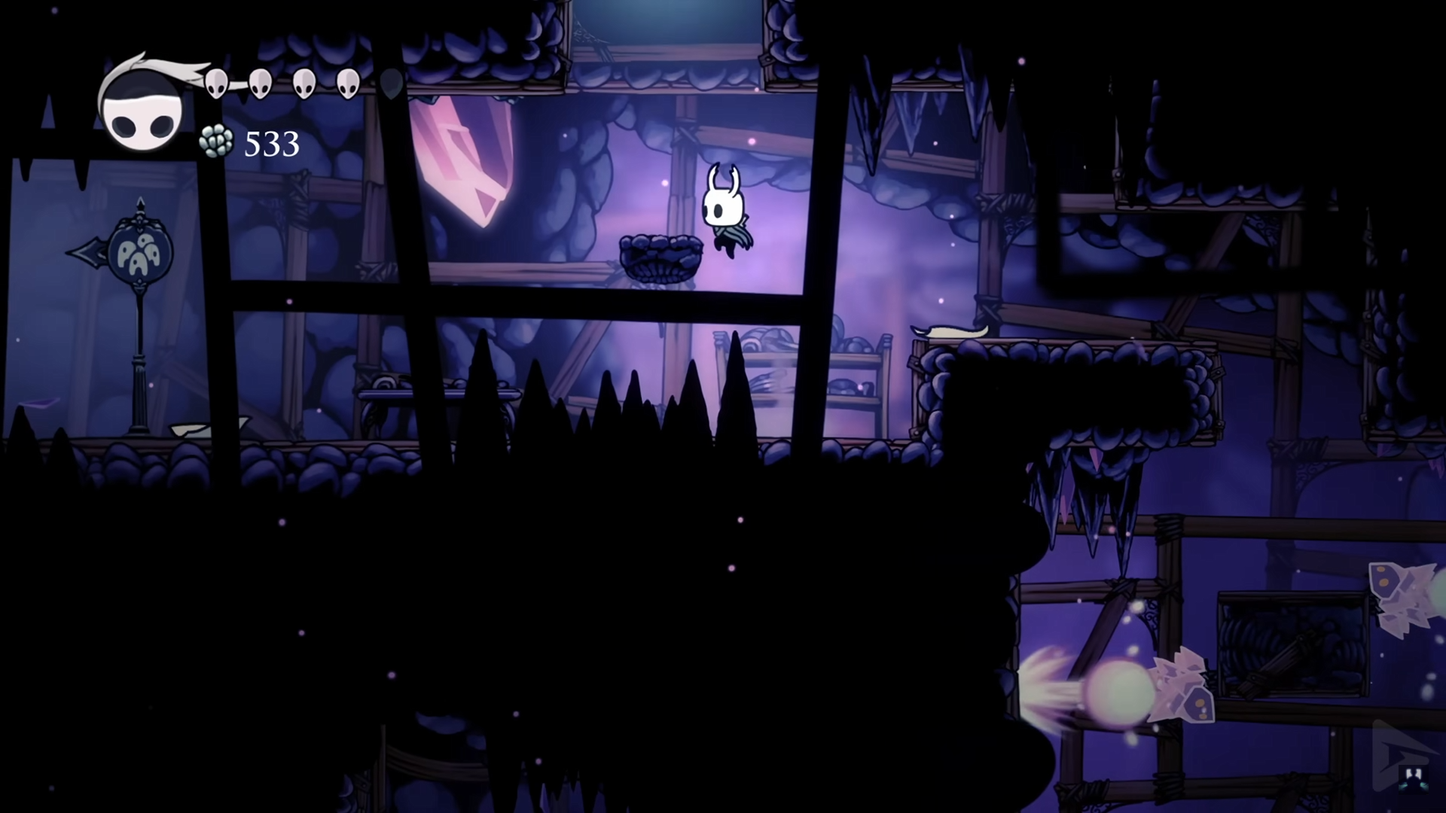HK: (696, 162, 754, 264)
